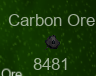Carbon: (7, 13, 96, 71)
